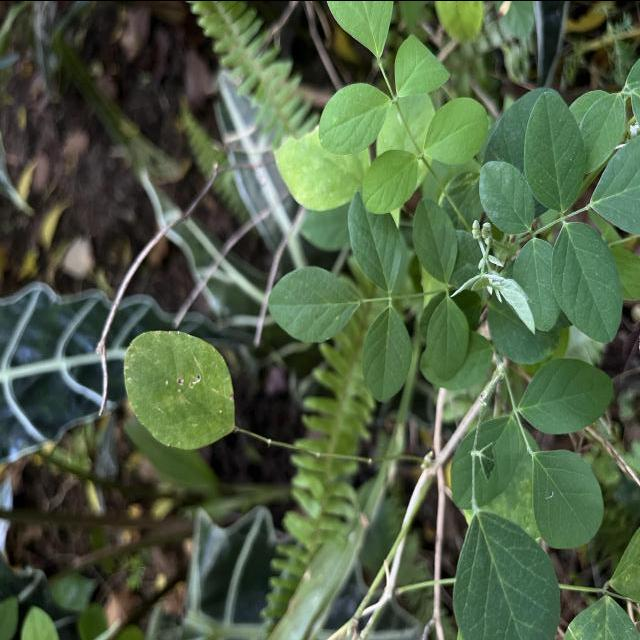Clitoria ternatea: (122, 327, 236, 451), (550, 220, 624, 344), (522, 90, 586, 212), (518, 356, 616, 435), (267, 263, 362, 343), (531, 448, 605, 550), (347, 188, 402, 294), (362, 304, 412, 402), (478, 158, 536, 234), (412, 196, 458, 284), (426, 294, 470, 381)
